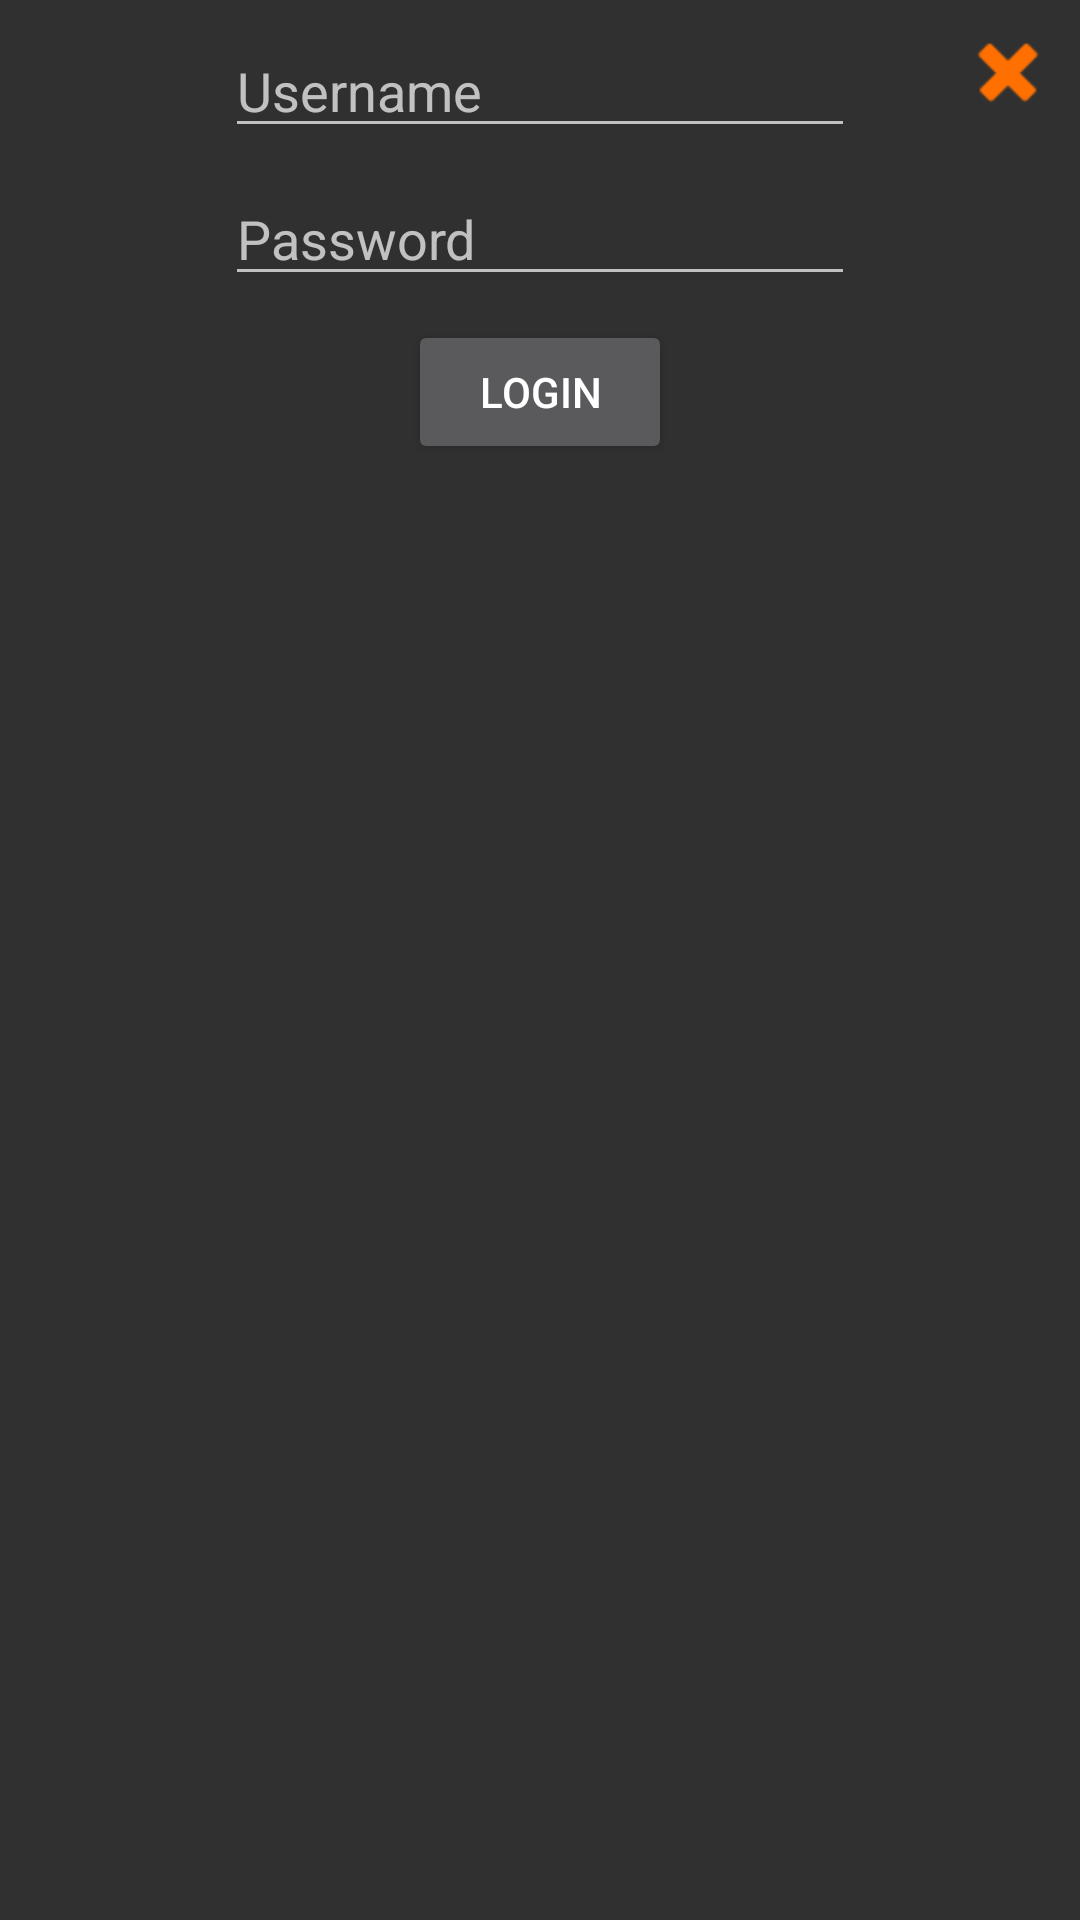

Icons on this 1080px×1920px Android screen, each with its box as (x1, y1, x2, y2):
delete: (978, 43, 1038, 102)
